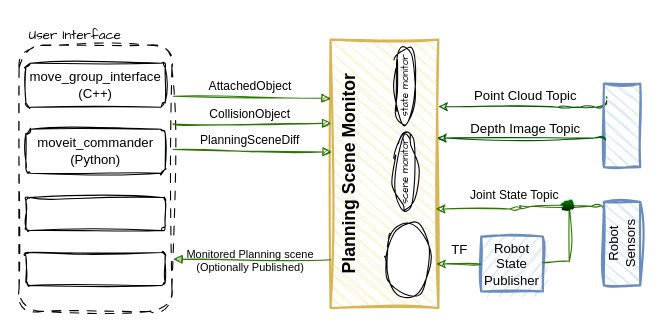
This 661x331 diagram has some shape labels left out. The centre of each missing label's shape, as x and y in pixels:
"GUI (Rviz Plugin)" belongs at (95,213).
"Other Interfaces" belongs at (95,268).
"Robot 3D Sensor" belongs at (621,125).
"world geometry monitor" belongs at (407,259).
